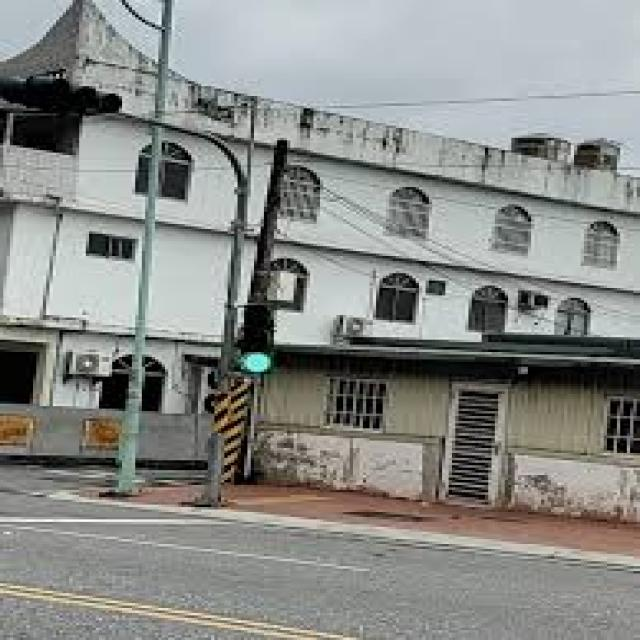green light: (239, 300, 279, 377)
